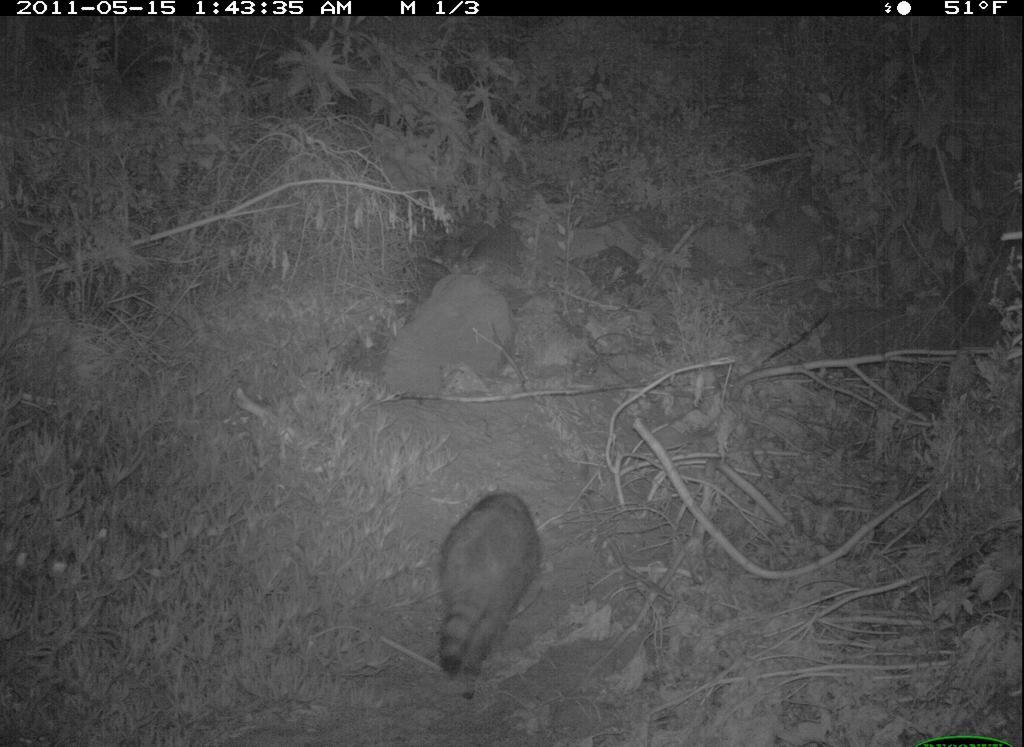raccoon: (428, 474, 557, 703)
